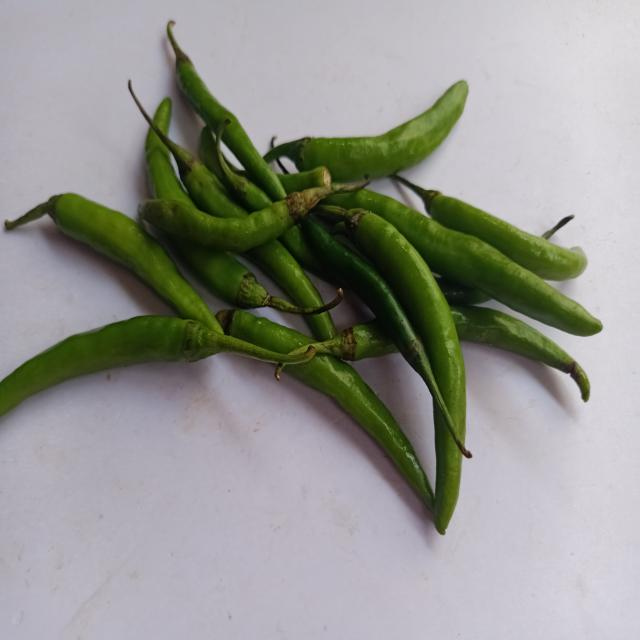Green Chilly: (301, 214, 472, 458), (0, 315, 315, 417), (4, 192, 221, 332), (284, 354, 434, 512), (167, 20, 286, 200), (392, 174, 588, 280), (264, 80, 469, 181), (137, 181, 365, 252), (152, 124, 247, 218), (174, 239, 291, 311), (216, 309, 312, 353)
